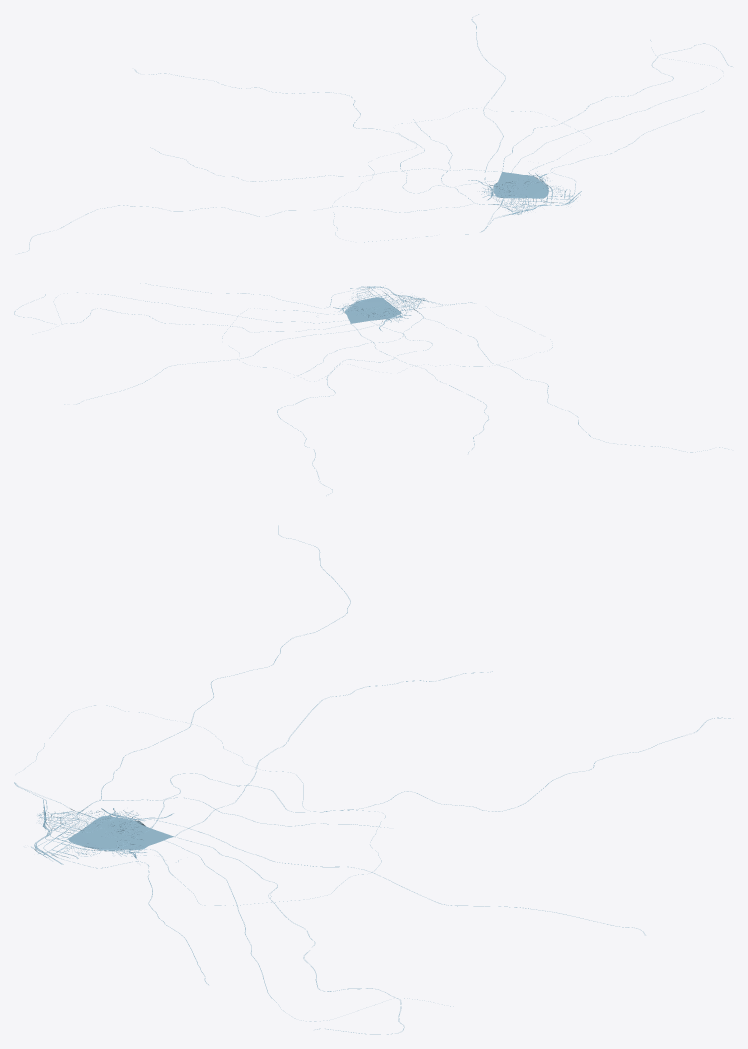
The model's file is roads.glb.
3 views of the same model, one above another, from view 1: azimuth 30°, elevation 25°; view 2: azimuth 150°, elevation 25°; view 3: azimuth 270°, elevation 25° (orthographic). The views are drawn at different scales.
Parts seen in each view (by area): view 1: roads; view 2: roads; view 3: roads.
Part boxes in pixels (box(x1,y1,x2,y2)): roads: box(18, 14, 732, 253); roads: box(14, 283, 728, 495); roads: box(14, 525, 730, 1034).
Size of the model in its own units: 31477 by 61.48 by 18811.
